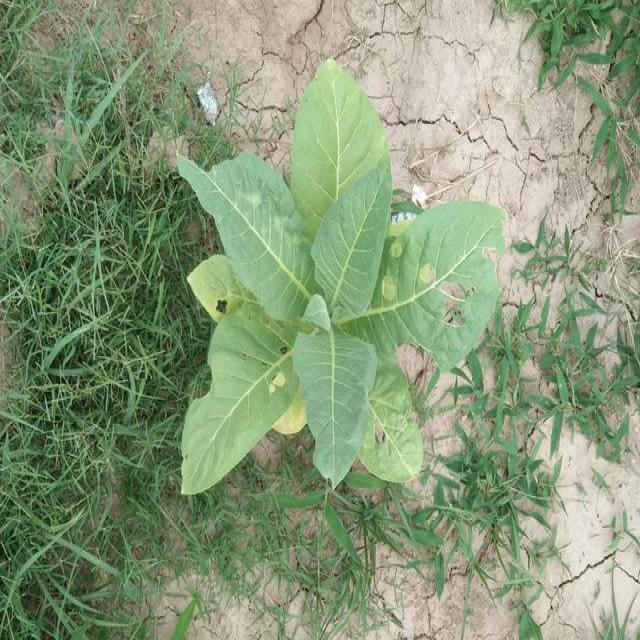crop: (166, 55, 514, 506)
